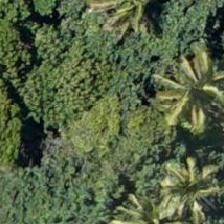coconut_tree: (134, 140, 223, 223), (149, 47, 223, 137), (85, 0, 175, 48)
